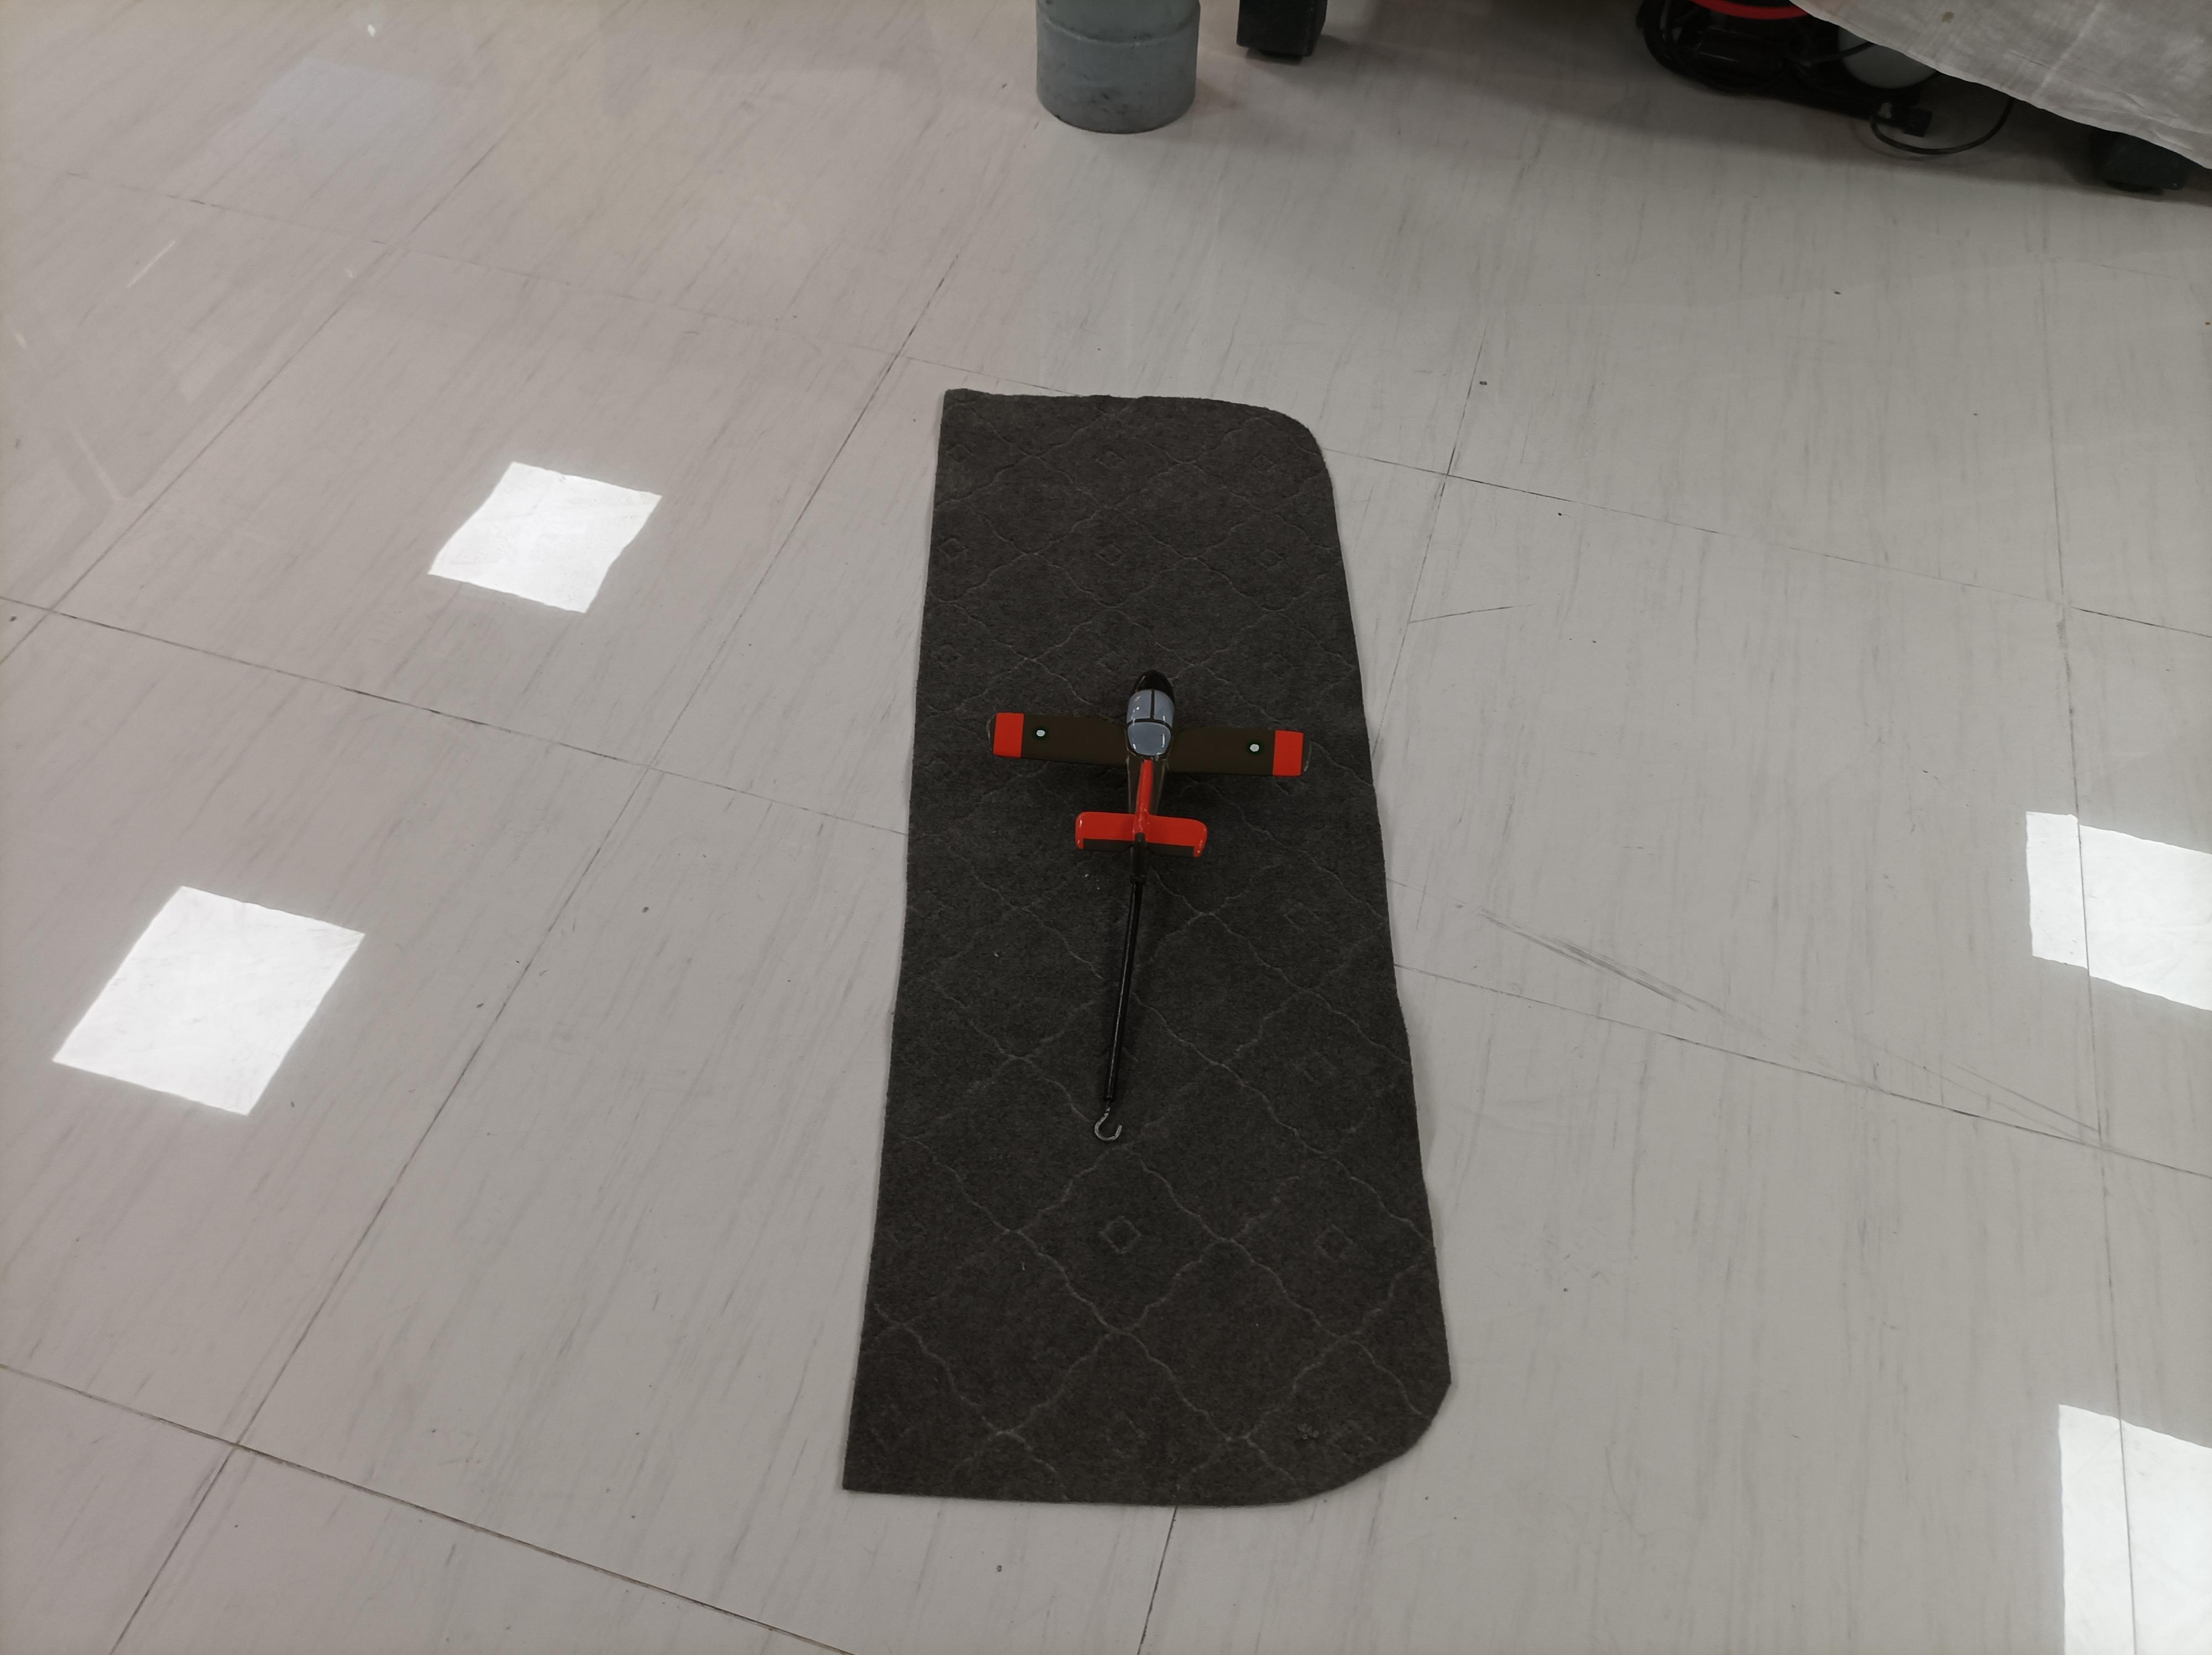Airplane: (949, 650, 1328, 902)
